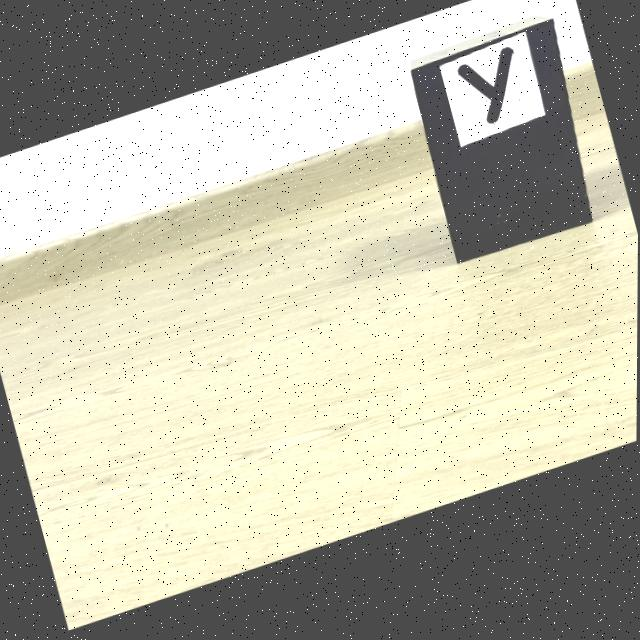Y: (458, 53, 513, 131)
